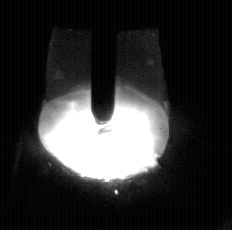arame: (92, 0, 117, 124)
poca: (38, 0, 170, 230)
